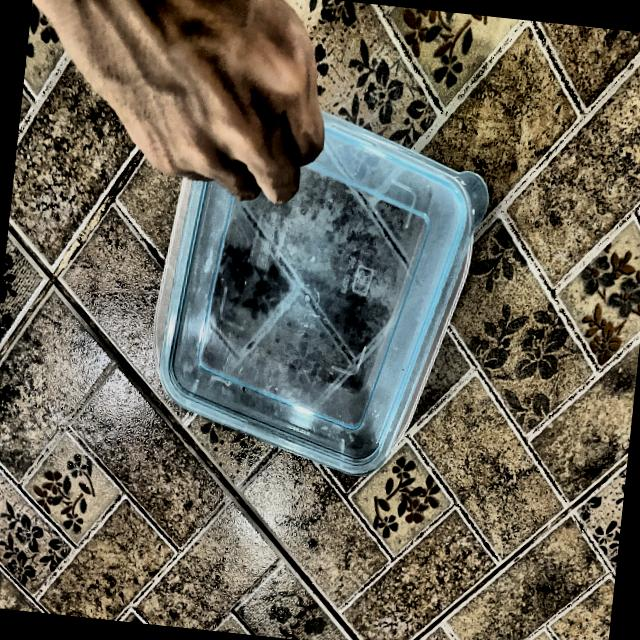plastic container: (120, 85, 509, 510)
